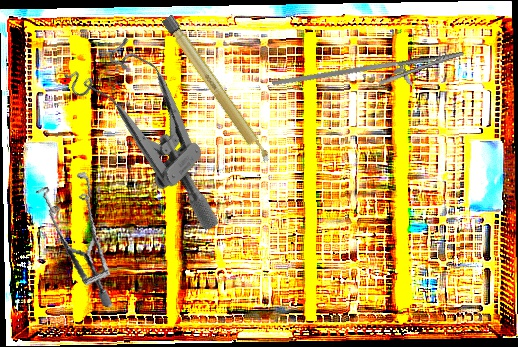Needle Holder: (271, 27, 469, 124)
Scalpel Handle: (160, 14, 273, 166)
Speculum: (49, 22, 270, 234), (14, 162, 142, 309)
